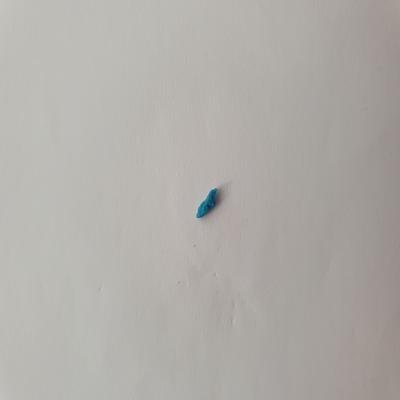plastic: (193, 184, 226, 220)
